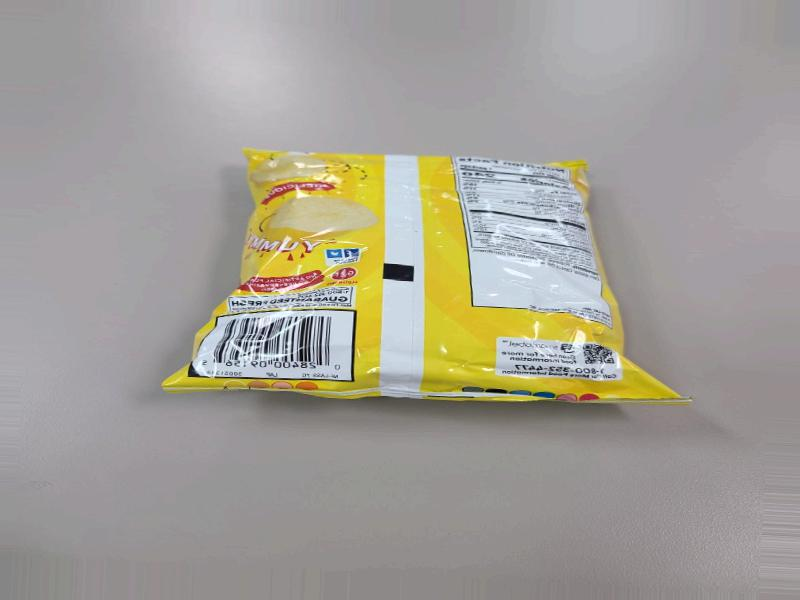lays: (195, 179, 674, 419)
